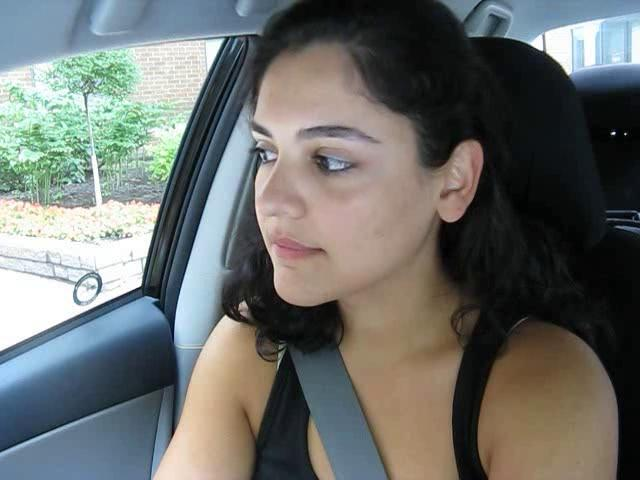no_yawn: (253, 227, 335, 269)
open_eyeL: (254, 134, 287, 168)
open_eyeR: (301, 139, 377, 186)
